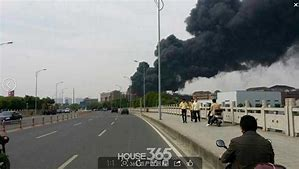smoke: (128, 1, 299, 92)
